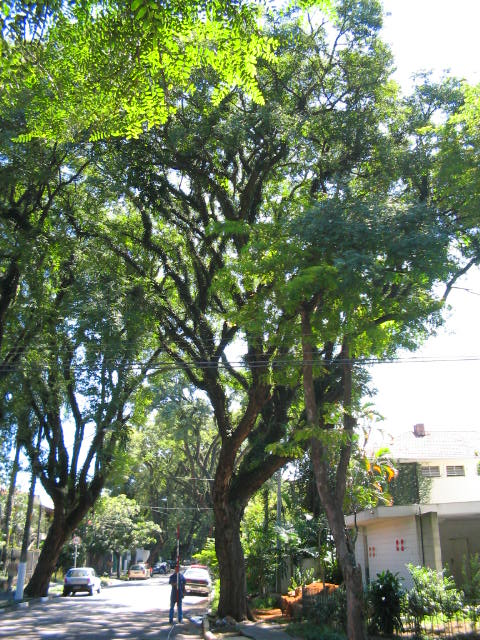stem: (315, 509, 381, 639), (203, 499, 259, 621), (23, 518, 78, 598)
stick: (168, 523, 188, 625)
tree: (133, 88, 320, 625)
